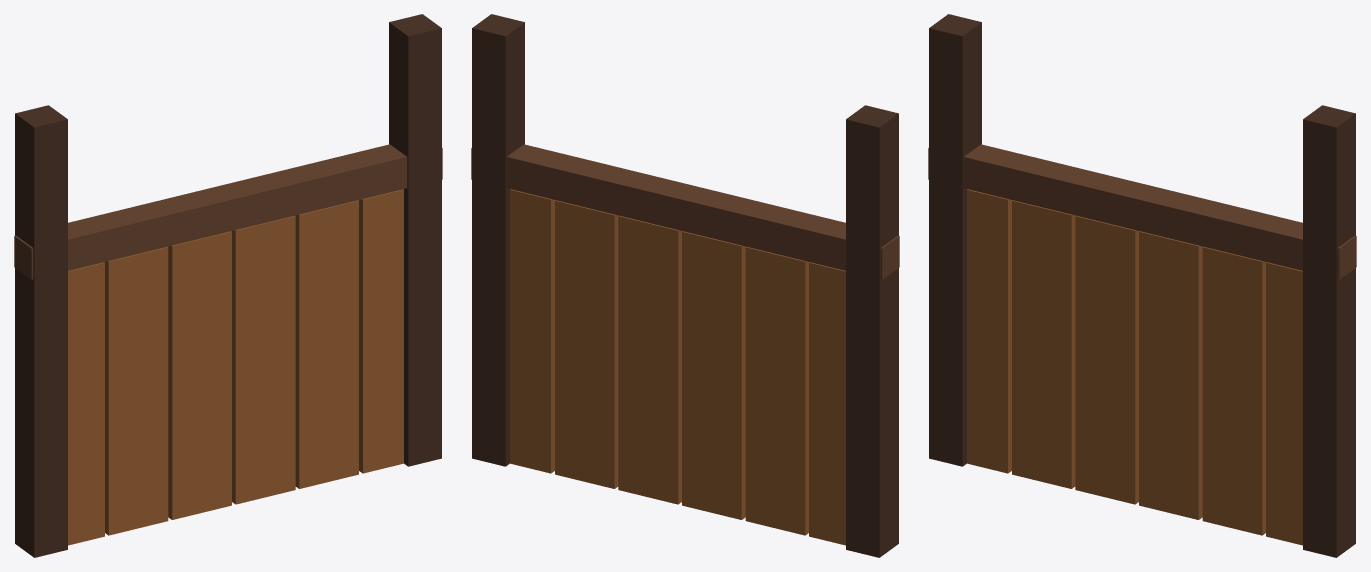
File: Stable__Stall.fbx
3 renders of one model, left to right at view 1: azimuth 30°, elevation 25°; view 2: azimuth 150°, elevation 25°; view 3: azimuth 330°, elevation 25°, orthographic.
Parts seen in each view (by area): view 1: Stable__Stall; view 2: Stable__Stall; view 3: Stable__Stall.
Part boxes in pixels (x1,y1,x2,y2): Stable__Stall: (14,14,442,557); Stable__Stall: (471,14,899,557); Stable__Stall: (928,14,1356,557).
Bounding box in the file's own units: 220 × 220 × 18.
Materials: 1 (1 with a texture image).
